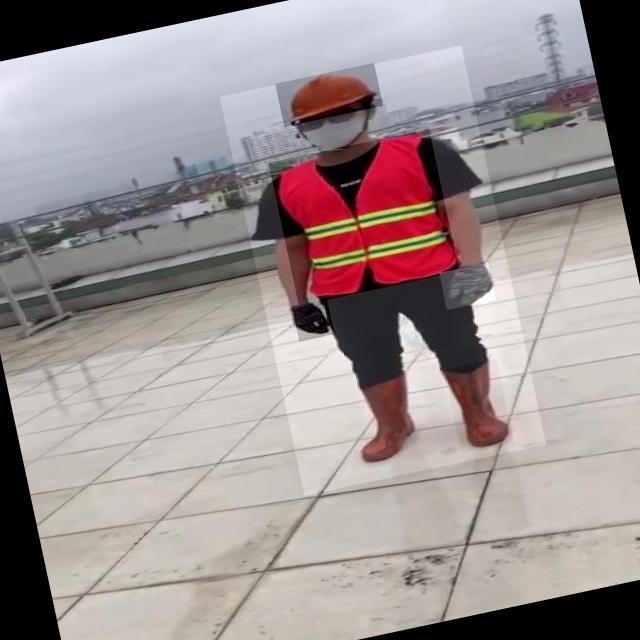Gloves: (439, 262, 496, 309), (291, 298, 334, 341)
Helmet: (275, 62, 383, 126)
Human: (220, 45, 546, 496)
Safety Boot: (345, 376, 424, 466), (444, 359, 514, 454)
Safety Vest: (268, 128, 459, 305)
